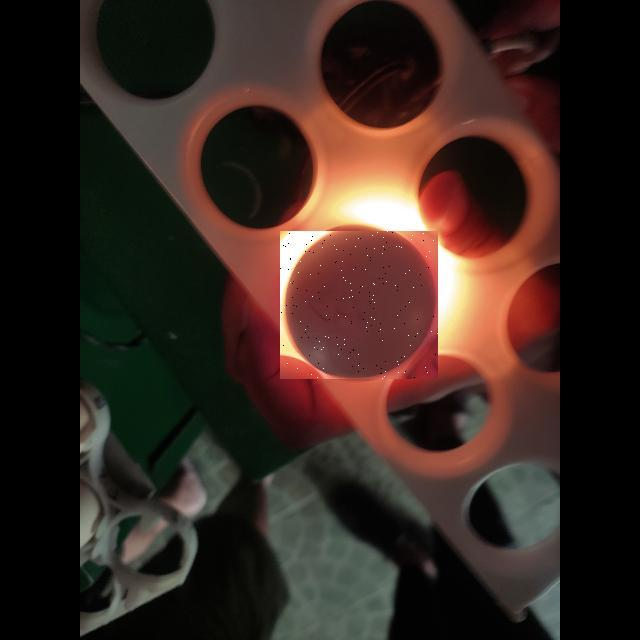Fertile: (280, 231, 438, 379)
